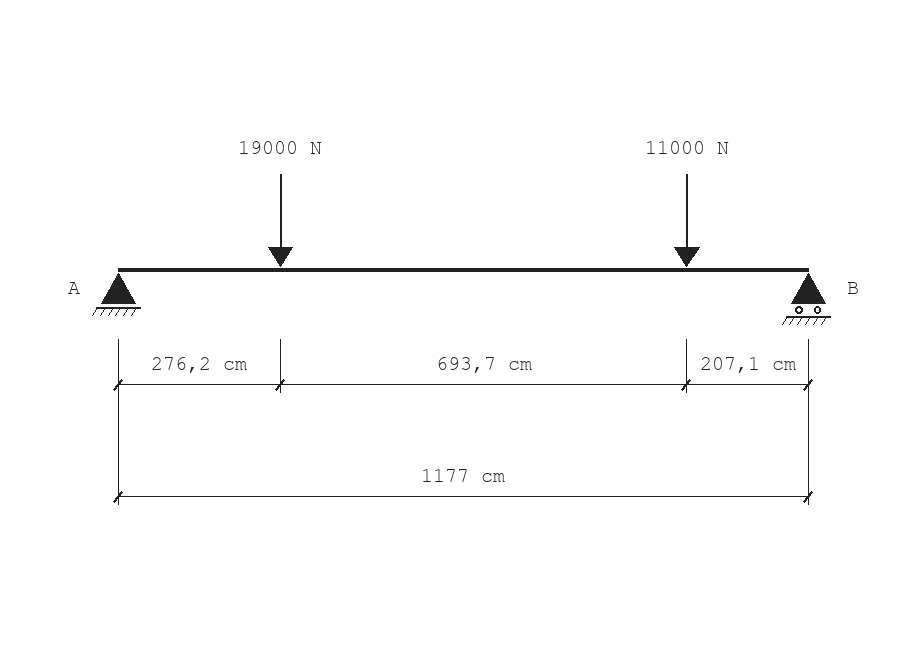pin_support: (92, 273, 141, 316)
point_load: (674, 174, 700, 267), (268, 174, 293, 267)
roller_support: (782, 273, 831, 325)
